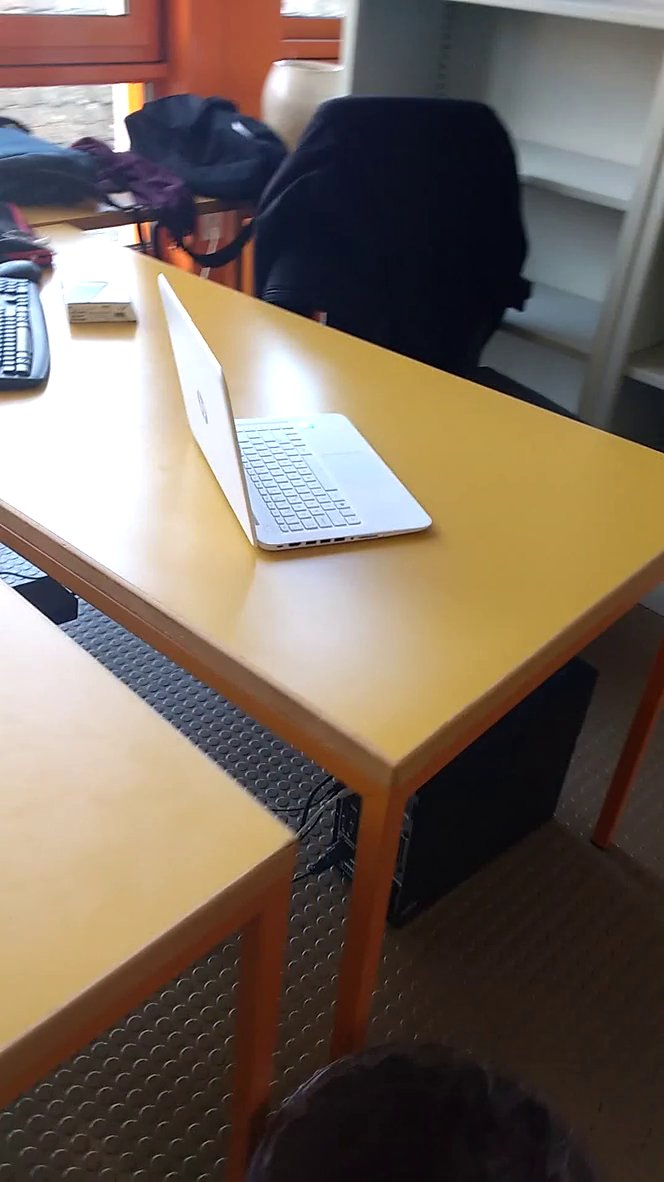bag: (121, 85, 301, 224)
chair: (259, 87, 558, 384)
laptop: (152, 264, 444, 559)
